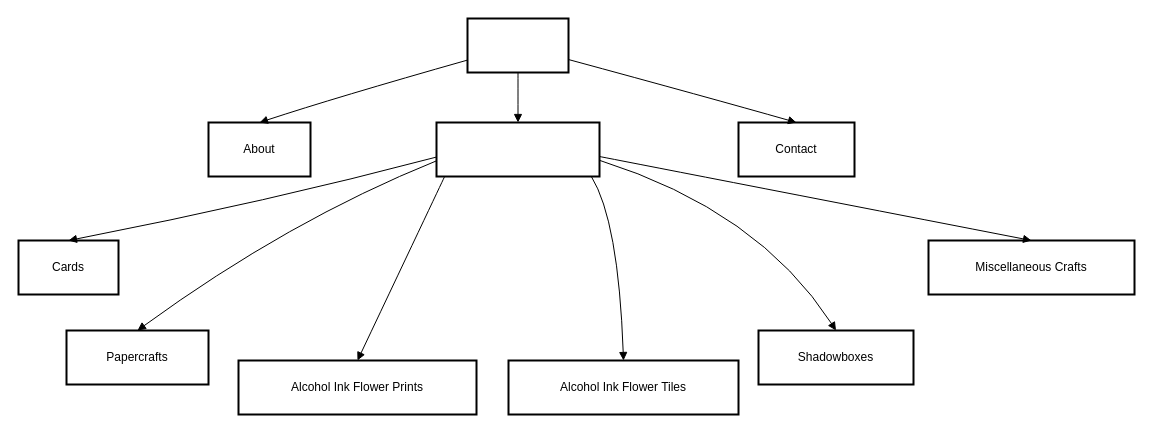
This 1152x432 diagram has some shape labels left out. The box of each missing label's shape, as (x1, y1, x2, y2) in pixels:
Gallery / Shop: (435, 121, 600, 177)
Home: (466, 17, 569, 73)
